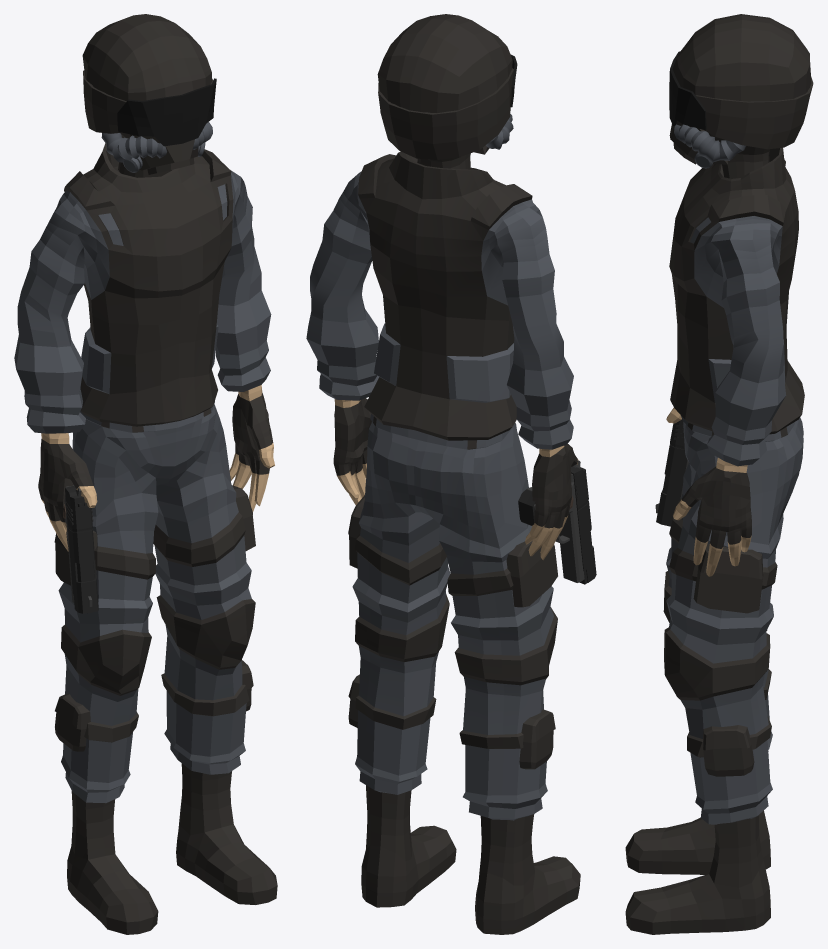
File: swat.glb
The picture shows the model from 3 angles, left to right: view 1: azimuth 30°, elevation 25°; view 2: azimuth 150°, elevation 25°; view 3: azimuth 270°, elevation 25°; orthographic projection. The views are drawn at different scales.
Visible parts, largest first — view 1: Swat_Body, Swat_Legs, Swat_Head, Swat_Feet, Pistol; view 2: Swat_Body, Swat_Legs, Swat_Head, Swat_Feet, Pistol; view 3: Swat_Body, Swat_Legs, Swat_Head, Swat_Feet, Pistol.
Part boxes in pixels (bbox=[...]): Swat_Body: bbox=[14, 143, 274, 551]; Swat_Legs: bbox=[54, 401, 255, 803]; Swat_Head: bbox=[82, 14, 216, 177]; Swat_Feet: bbox=[67, 763, 277, 934]; Pistol: bbox=[63, 485, 98, 613]; Swat_Body: bbox=[306, 151, 578, 560]; Swat_Legs: bbox=[348, 414, 557, 820]; Swat_Head: bbox=[377, 14, 517, 169]; Swat_Feet: bbox=[361, 785, 580, 934]; Pistol: bbox=[518, 460, 596, 584]; Swat_Body: bbox=[666, 147, 804, 576]; Swat_Legs: bbox=[663, 415, 803, 824]; Swat_Head: bbox=[669, 14, 813, 178]; Swat_Feet: bbox=[625, 810, 770, 934]; Pistol: bbox=[655, 419, 688, 526].
Size of the model in its own units: 0.5689 by 1.85 by 0.3596.
